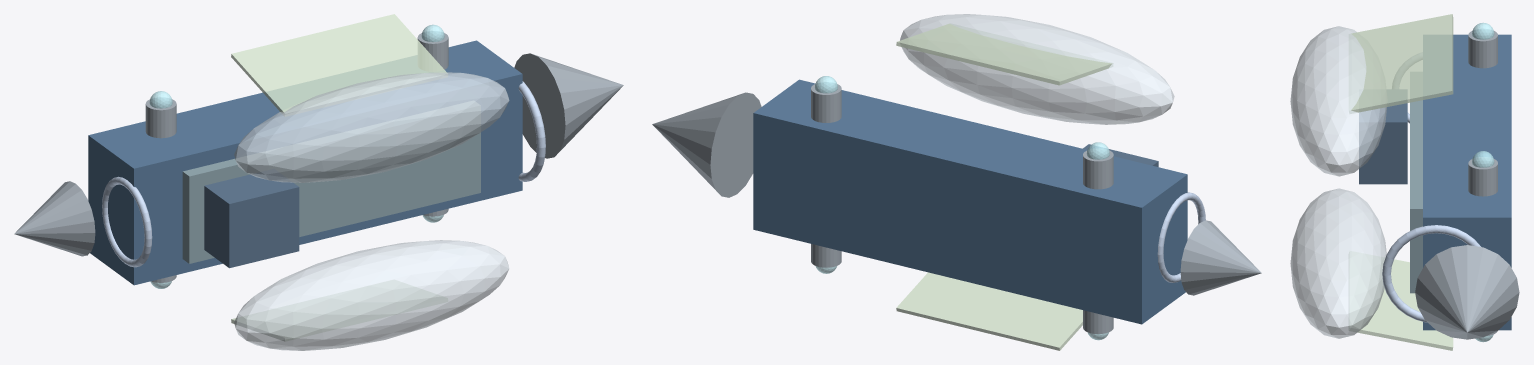
File: SKYSHIP_07_THUNDERLINE_DROPSHIP_thunderline_dropship.glb
The picture shows the model from 3 angles, left to right: view 1: azimuth 30°, elevation 25°; view 2: azimuth 150°, elevation 25°; view 3: azimuth 270°, elevation 25°; orthographic projection. The views are drawn at different scales.
Visible parts, largest first — view 1: aetherwood_hull, upper_deck, left_aether_cell, right_aether_cell, right_lift_sail, command_cabin, left_lift_sail, forward_ram, stern_finial, stern_docking_ring, right_thruster_-1.37, right_thruster_1.37 (+1 smaller); view 2: aetherwood_hull, right_aether_cell, left_lift_sail, forward_ram, right_lift_sail, stern_finial, right_thruster_-1.37, right_thruster_1.37, stern_docking_ring, left_thruster_1.37, left_thruster_-1.37; view 3: aetherwood_hull, left_aether_cell, right_aether_cell, right_lift_sail, forward_ram, left_lift_sail, command_cabin, upper_deck, forward_docking_ring, right_thruster_-1.37, right_thruster_1.37, stern_docking_ring (+2 smaller).
Part boxes in pixels (<box>): aetherwood_hull: <box>88,40,522,285</box>; upper_deck: <box>182,101,480,263</box>; left_aether_cell: <box>234,240,509,350</box>; right_aether_cell: <box>234,72,509,182</box>; right_lift_sail: <box>231,14,447,116</box>; command_cabin: <box>204,169,299,268</box>; left_lift_sail: <box>231,280,447,341</box>; forward_ram: <box>514,53,623,158</box>; stern_finial: <box>14,181,95,256</box>; stern_docking_ring: <box>102,176,152,267</box>; right_thruster_-1.37: <box>145,98,176,138</box>; right_thruster_1.37: <box>417,31,448,71</box>; aetherwood_hull: <box>753,79,1187,324</box>; right_aether_cell: <box>900,14,1174,124</box>; left_lift_sail: <box>896,272,1082,350</box>; forward_ram: <box>652,92,761,197</box>; right_lift_sail: <box>896,23,1113,85</box>; stern_finial: <box>1180,220,1261,295</box>; right_thruster_-1.37: <box>1083,149,1113,189</box>; right_thruster_1.37: <box>811,82,841,122</box>; stern_docking_ring: <box>1157,192,1205,282</box>; left_thruster_1.37: <box>811,244,841,267</box>; left_thruster_-1.37: <box>1083,310,1113,333</box>; aetherwood_hull: <box>1423,34,1511,330</box>; left_aether_cell: <box>1290,188,1386,338</box>; right_aether_cell: <box>1290,26,1386,176</box>; right_lift_sail: <box>1349,14,1453,113</box>; forward_ram: <box>1415,245,1519,339</box>; left_lift_sail: <box>1349,251,1453,350</box>; command_cabin: <box>1359,90,1407,184</box>; upper_deck: <box>1410,72,1422,293</box>; forward_docking_ring: <box>1382,225,1480,322</box>; right_thruster_-1.37: <box>1468,29,1497,68</box>; right_thruster_1.37: <box>1468,157,1497,196</box>; stern_docking_ring: <box>1392,53,1422,123</box>.
Size of the model in its own units: 6.15 by 2.6 by 2.07.
